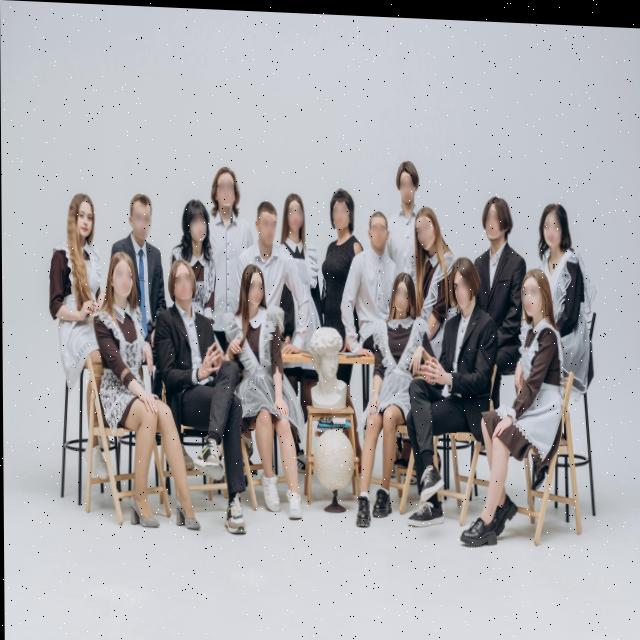Person: (98, 255, 198, 537), (485, 260, 571, 558), (161, 262, 255, 533), (224, 258, 318, 527), (421, 247, 493, 518), (356, 267, 424, 526), (45, 189, 118, 416), (536, 191, 603, 404), (467, 175, 534, 358), (349, 203, 402, 365), (123, 187, 172, 354), (202, 171, 253, 315), (317, 179, 365, 327), (277, 182, 316, 329), (179, 185, 217, 335), (244, 190, 286, 306), (386, 146, 424, 272), (410, 199, 450, 300)
